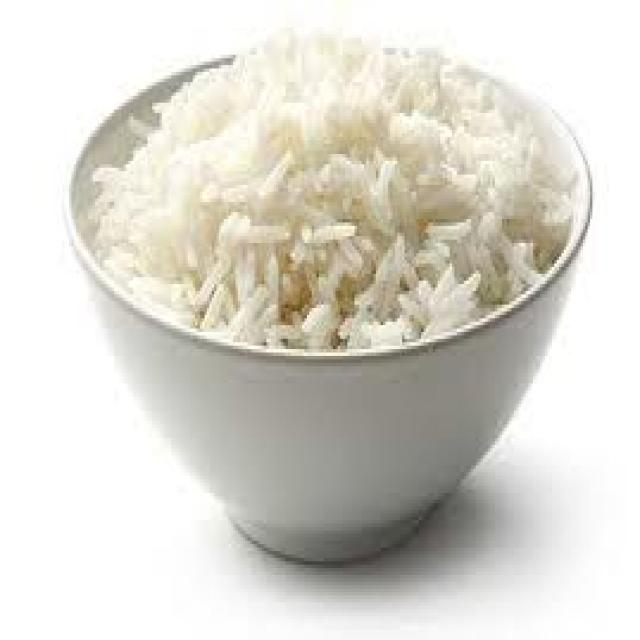rice: (59, 10, 595, 527)
